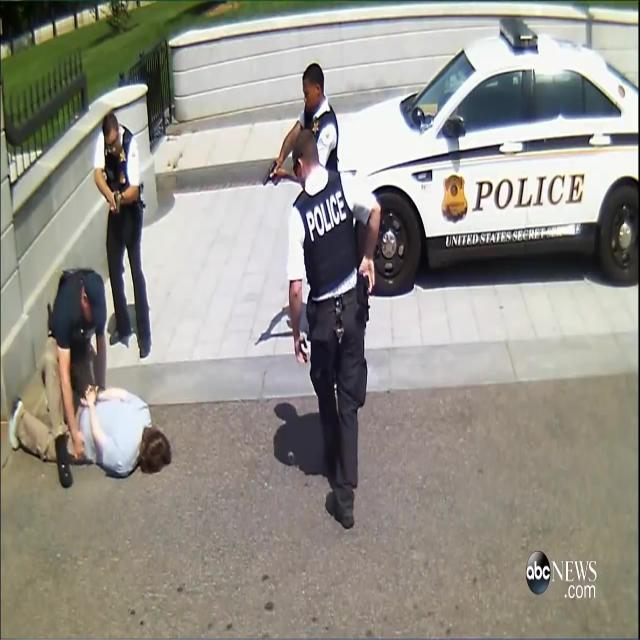Weapon: (253, 142, 285, 198), (103, 184, 132, 221)
